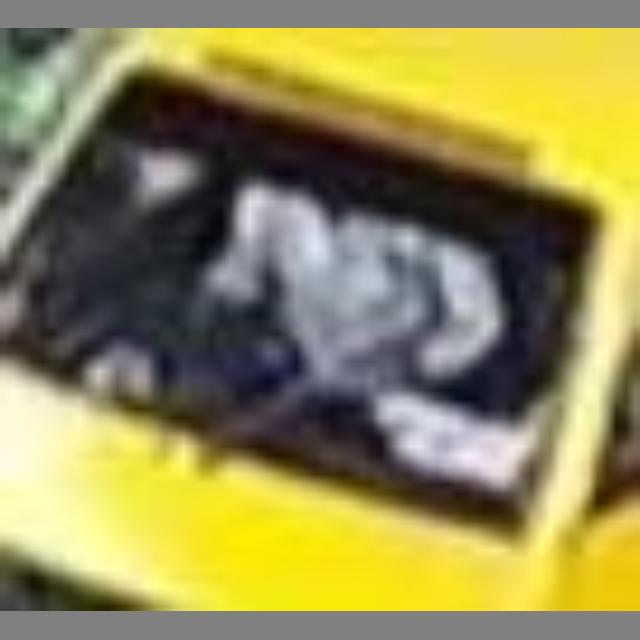tidak-pakai: (160, 150, 480, 404)
